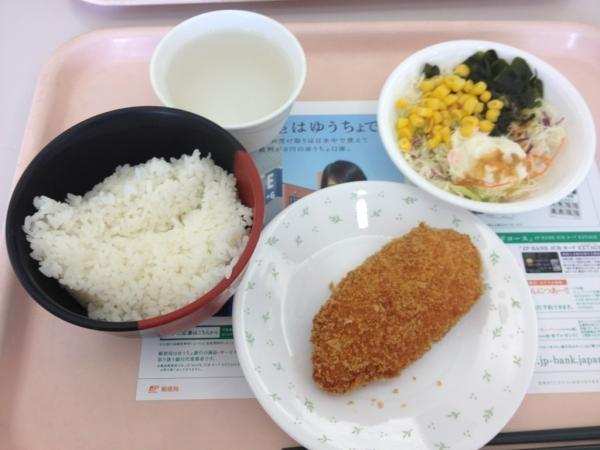plate: (5, 106, 264, 331)
rice: (22, 150, 252, 320)
